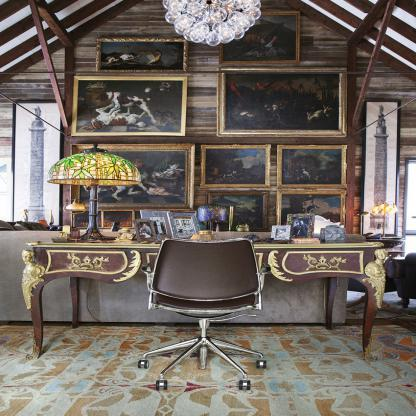chair: (134, 233, 282, 404)
light: (42, 145, 145, 243), (153, 0, 268, 49)
table: (24, 232, 397, 363)
